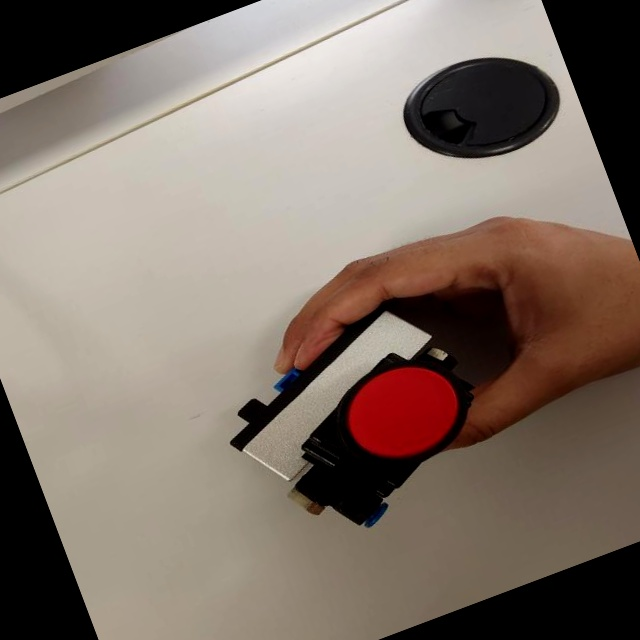push button: (196, 281, 525, 573)
